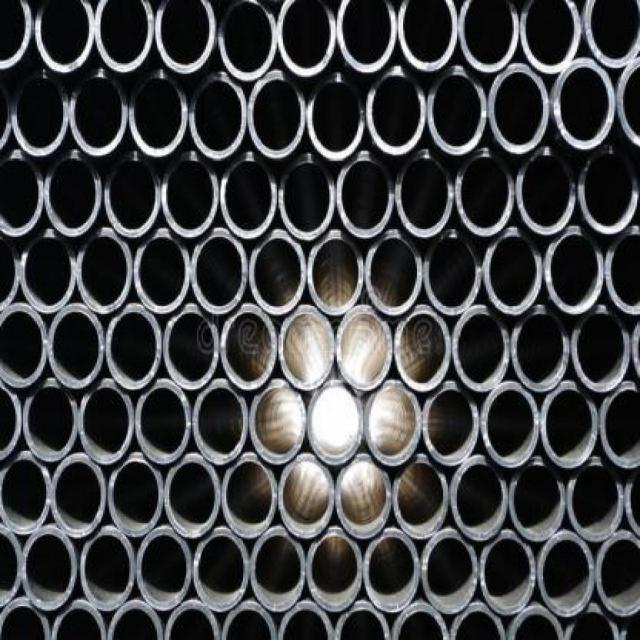pipe: (554, 58, 616, 151), (578, 145, 640, 233), (455, 147, 515, 237), (490, 63, 549, 154), (516, 147, 576, 235), (544, 226, 604, 314), (426, 67, 486, 155), (219, 151, 278, 238), (129, 71, 188, 158), (306, 74, 365, 161), (396, 149, 454, 237), (47, 302, 105, 389), (482, 381, 540, 468), (367, 67, 425, 154), (162, 150, 219, 238), (485, 227, 542, 315), (541, 381, 598, 469), (511, 306, 570, 391), (572, 306, 631, 391), (278, 154, 335, 241), (307, 229, 364, 316), (106, 303, 163, 390), (395, 305, 452, 392), (451, 455, 508, 542), (249, 71, 306, 158), (424, 230, 482, 315), (70, 71, 128, 156), (249, 381, 308, 464), (191, 71, 246, 160), (78, 378, 134, 465), (51, 452, 107, 539), (337, 153, 394, 238), (76, 229, 133, 314), (250, 230, 307, 315), (453, 305, 510, 390), (423, 380, 480, 465), (108, 453, 165, 538), (510, 456, 567, 541), (567, 456, 624, 541), (21, 527, 78, 612), (538, 532, 595, 617), (221, 304, 276, 392), (164, 304, 219, 391), (336, 305, 392, 390), (278, 305, 334, 390), (135, 379, 191, 464), (221, 452, 277, 537), (136, 526, 192, 611), (80, 527, 136, 612), (45, 153, 102, 236), (164, 455, 221, 538), (366, 232, 421, 317), (251, 527, 306, 612), (20, 231, 77, 313), (278, 456, 335, 538), (12, 75, 69, 157), (219, 1, 278, 80), (105, 155, 161, 238), (393, 455, 449, 538), (306, 528, 362, 611), (422, 530, 478, 613), (364, 530, 420, 613), (480, 532, 536, 615), (364, 380, 420, 462), (193, 379, 247, 464), (192, 230, 247, 313), (308, 382, 363, 465), (336, 456, 391, 539), (194, 529, 249, 612), (278, 0, 337, 76), (24, 379, 78, 462), (0, 449, 52, 535), (520, 1, 580, 75), (337, 0, 398, 72), (459, 1, 519, 74), (156, 0, 215, 74), (94, 0, 154, 72), (398, 0, 458, 72), (135, 234, 189, 313), (36, 3, 96, 74), (0, 303, 48, 388), (584, 0, 638, 69), (598, 381, 640, 469), (597, 532, 640, 617), (0, 153, 44, 235), (604, 227, 640, 317), (51, 599, 107, 640), (0, 0, 32, 71), (108, 600, 165, 639), (164, 601, 221, 640), (278, 601, 335, 640), (335, 600, 390, 639), (393, 602, 450, 639), (564, 602, 620, 639), (222, 603, 279, 639), (451, 602, 506, 639), (618, 57, 640, 147), (0, 599, 49, 639), (507, 606, 564, 639), (0, 526, 22, 608), (0, 229, 20, 311), (0, 384, 20, 460)
